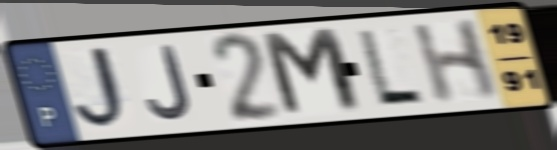2: (210, 27, 287, 130)
H: (408, 16, 502, 107)
J: (71, 43, 138, 134), (144, 42, 197, 123)
L: (354, 27, 428, 106)
M: (256, 25, 368, 121)
